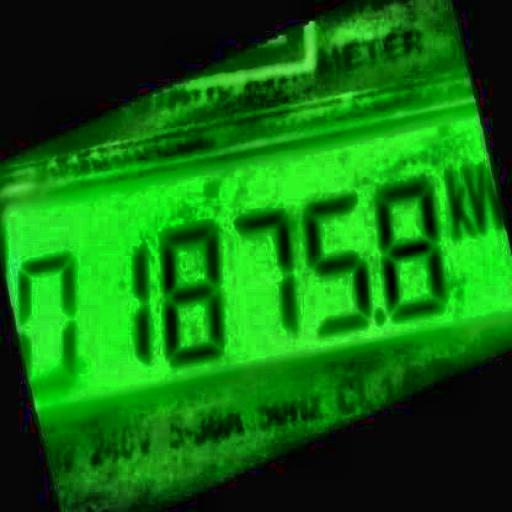SERIAL_REGION: (9, 161, 511, 397)
